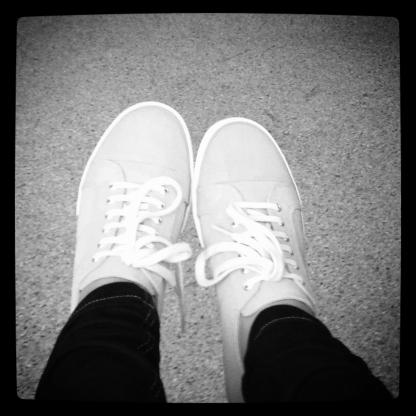ankle: (127, 269, 135, 275), (237, 325, 242, 329)
heel: (158, 304, 162, 310), (233, 397, 237, 401)
left_foot: (68, 102, 194, 320)
pinky: (112, 131, 119, 138), (278, 154, 283, 160)
right_foot: (196, 117, 318, 404)
toe: (177, 127, 183, 132), (212, 137, 217, 143)
